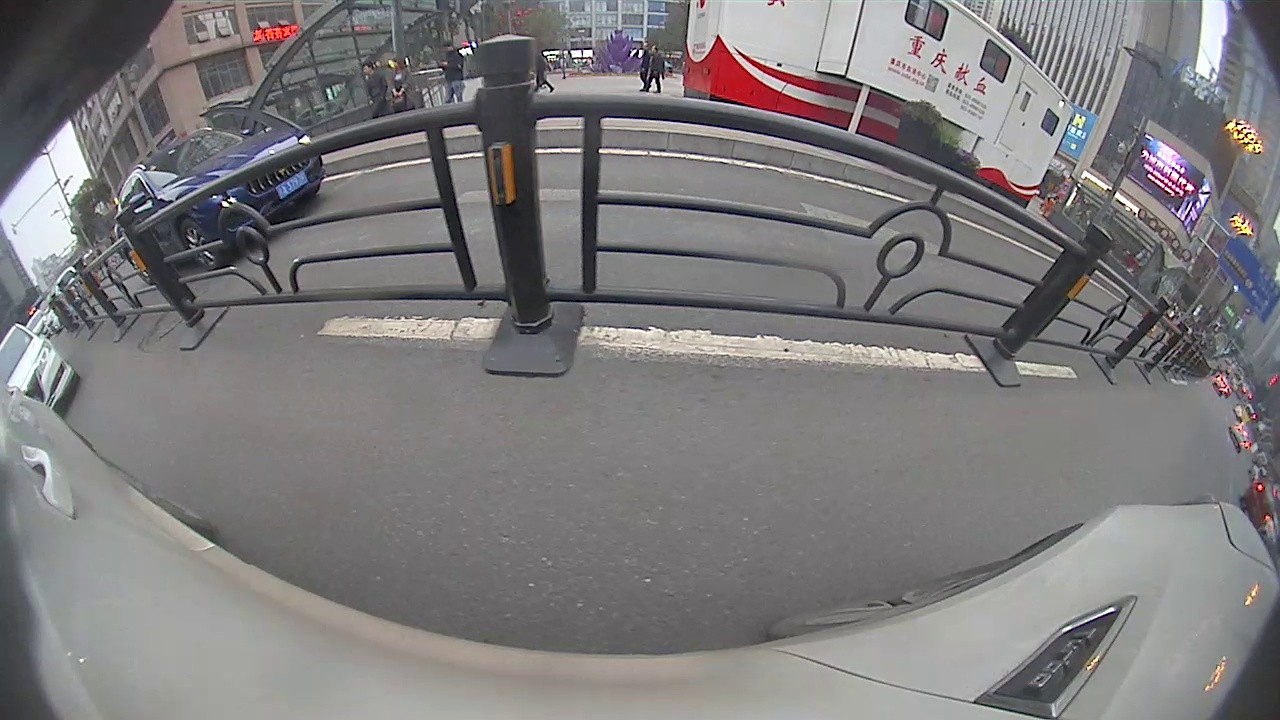car: (112, 124, 324, 288), (1, 324, 79, 417)
front: (177, 219, 218, 272)
